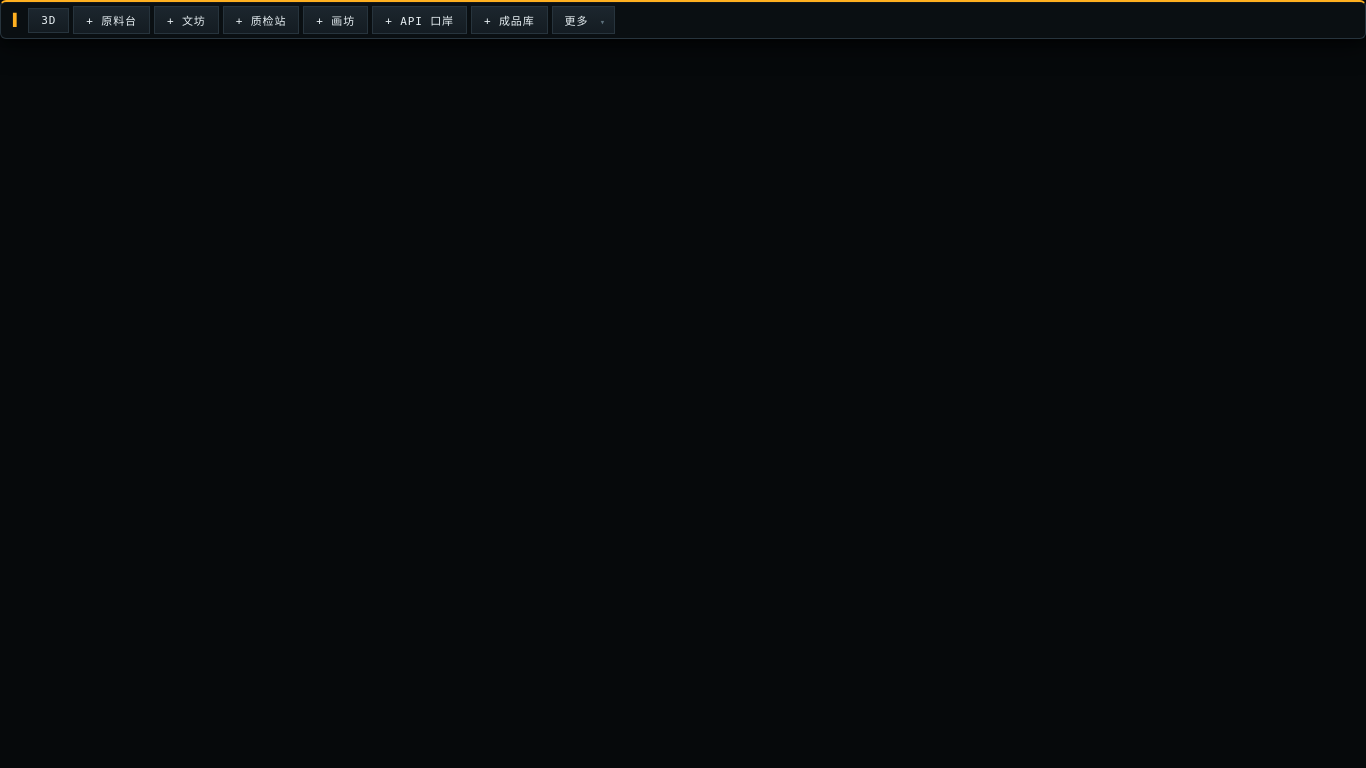
Scenario: CanvasToolbar › 更多面板 › 面板显示所有节点类型（不止主要的 6 个）
Click the button "更多 ▾".
click(583, 20)  # box [552,6,615,34]
(page scrolled)
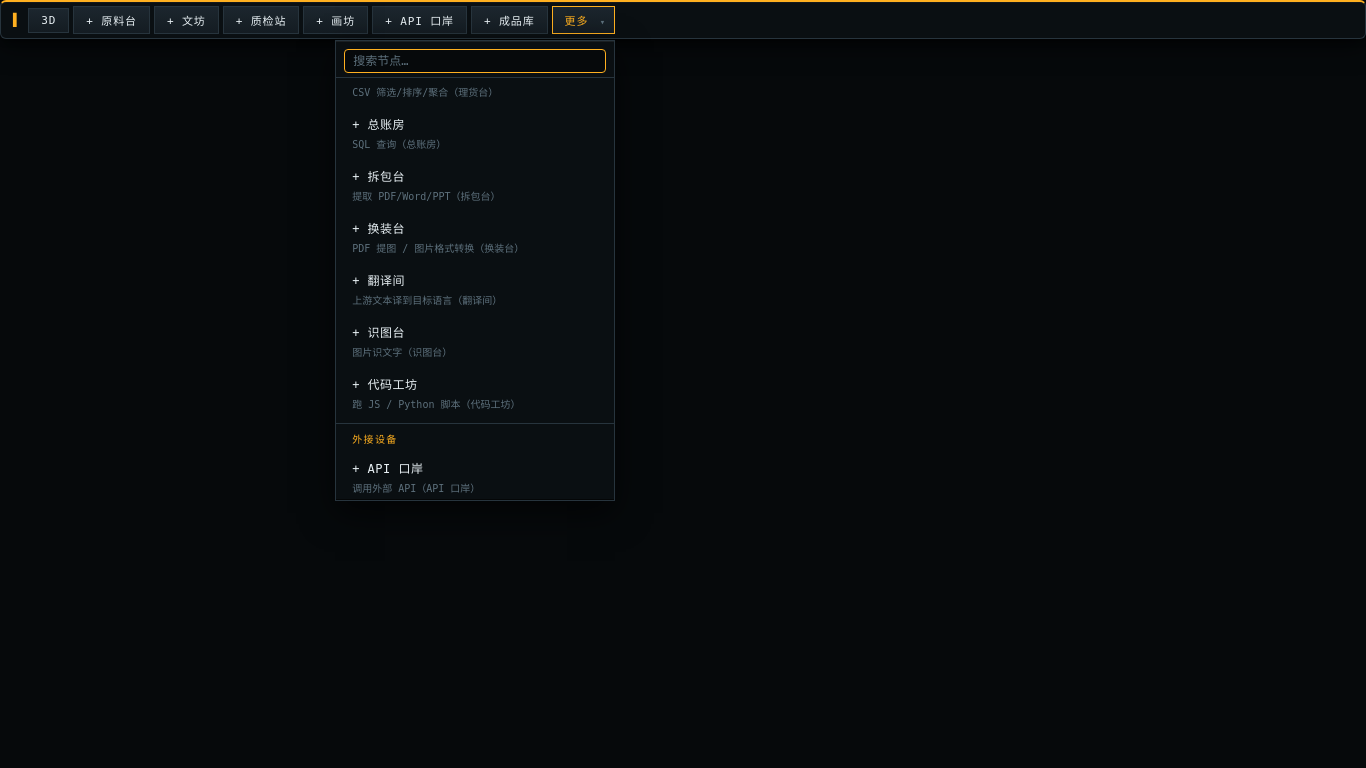
Check: the button "+ 代码工坊 跑 JS / Python 脚本（代码工坊）" is shown, box [336,367,614,419]
Check: the button "+ 翻译间 上游文本译到目标语言（翻译间）" is shown, box [336,263,614,315]
